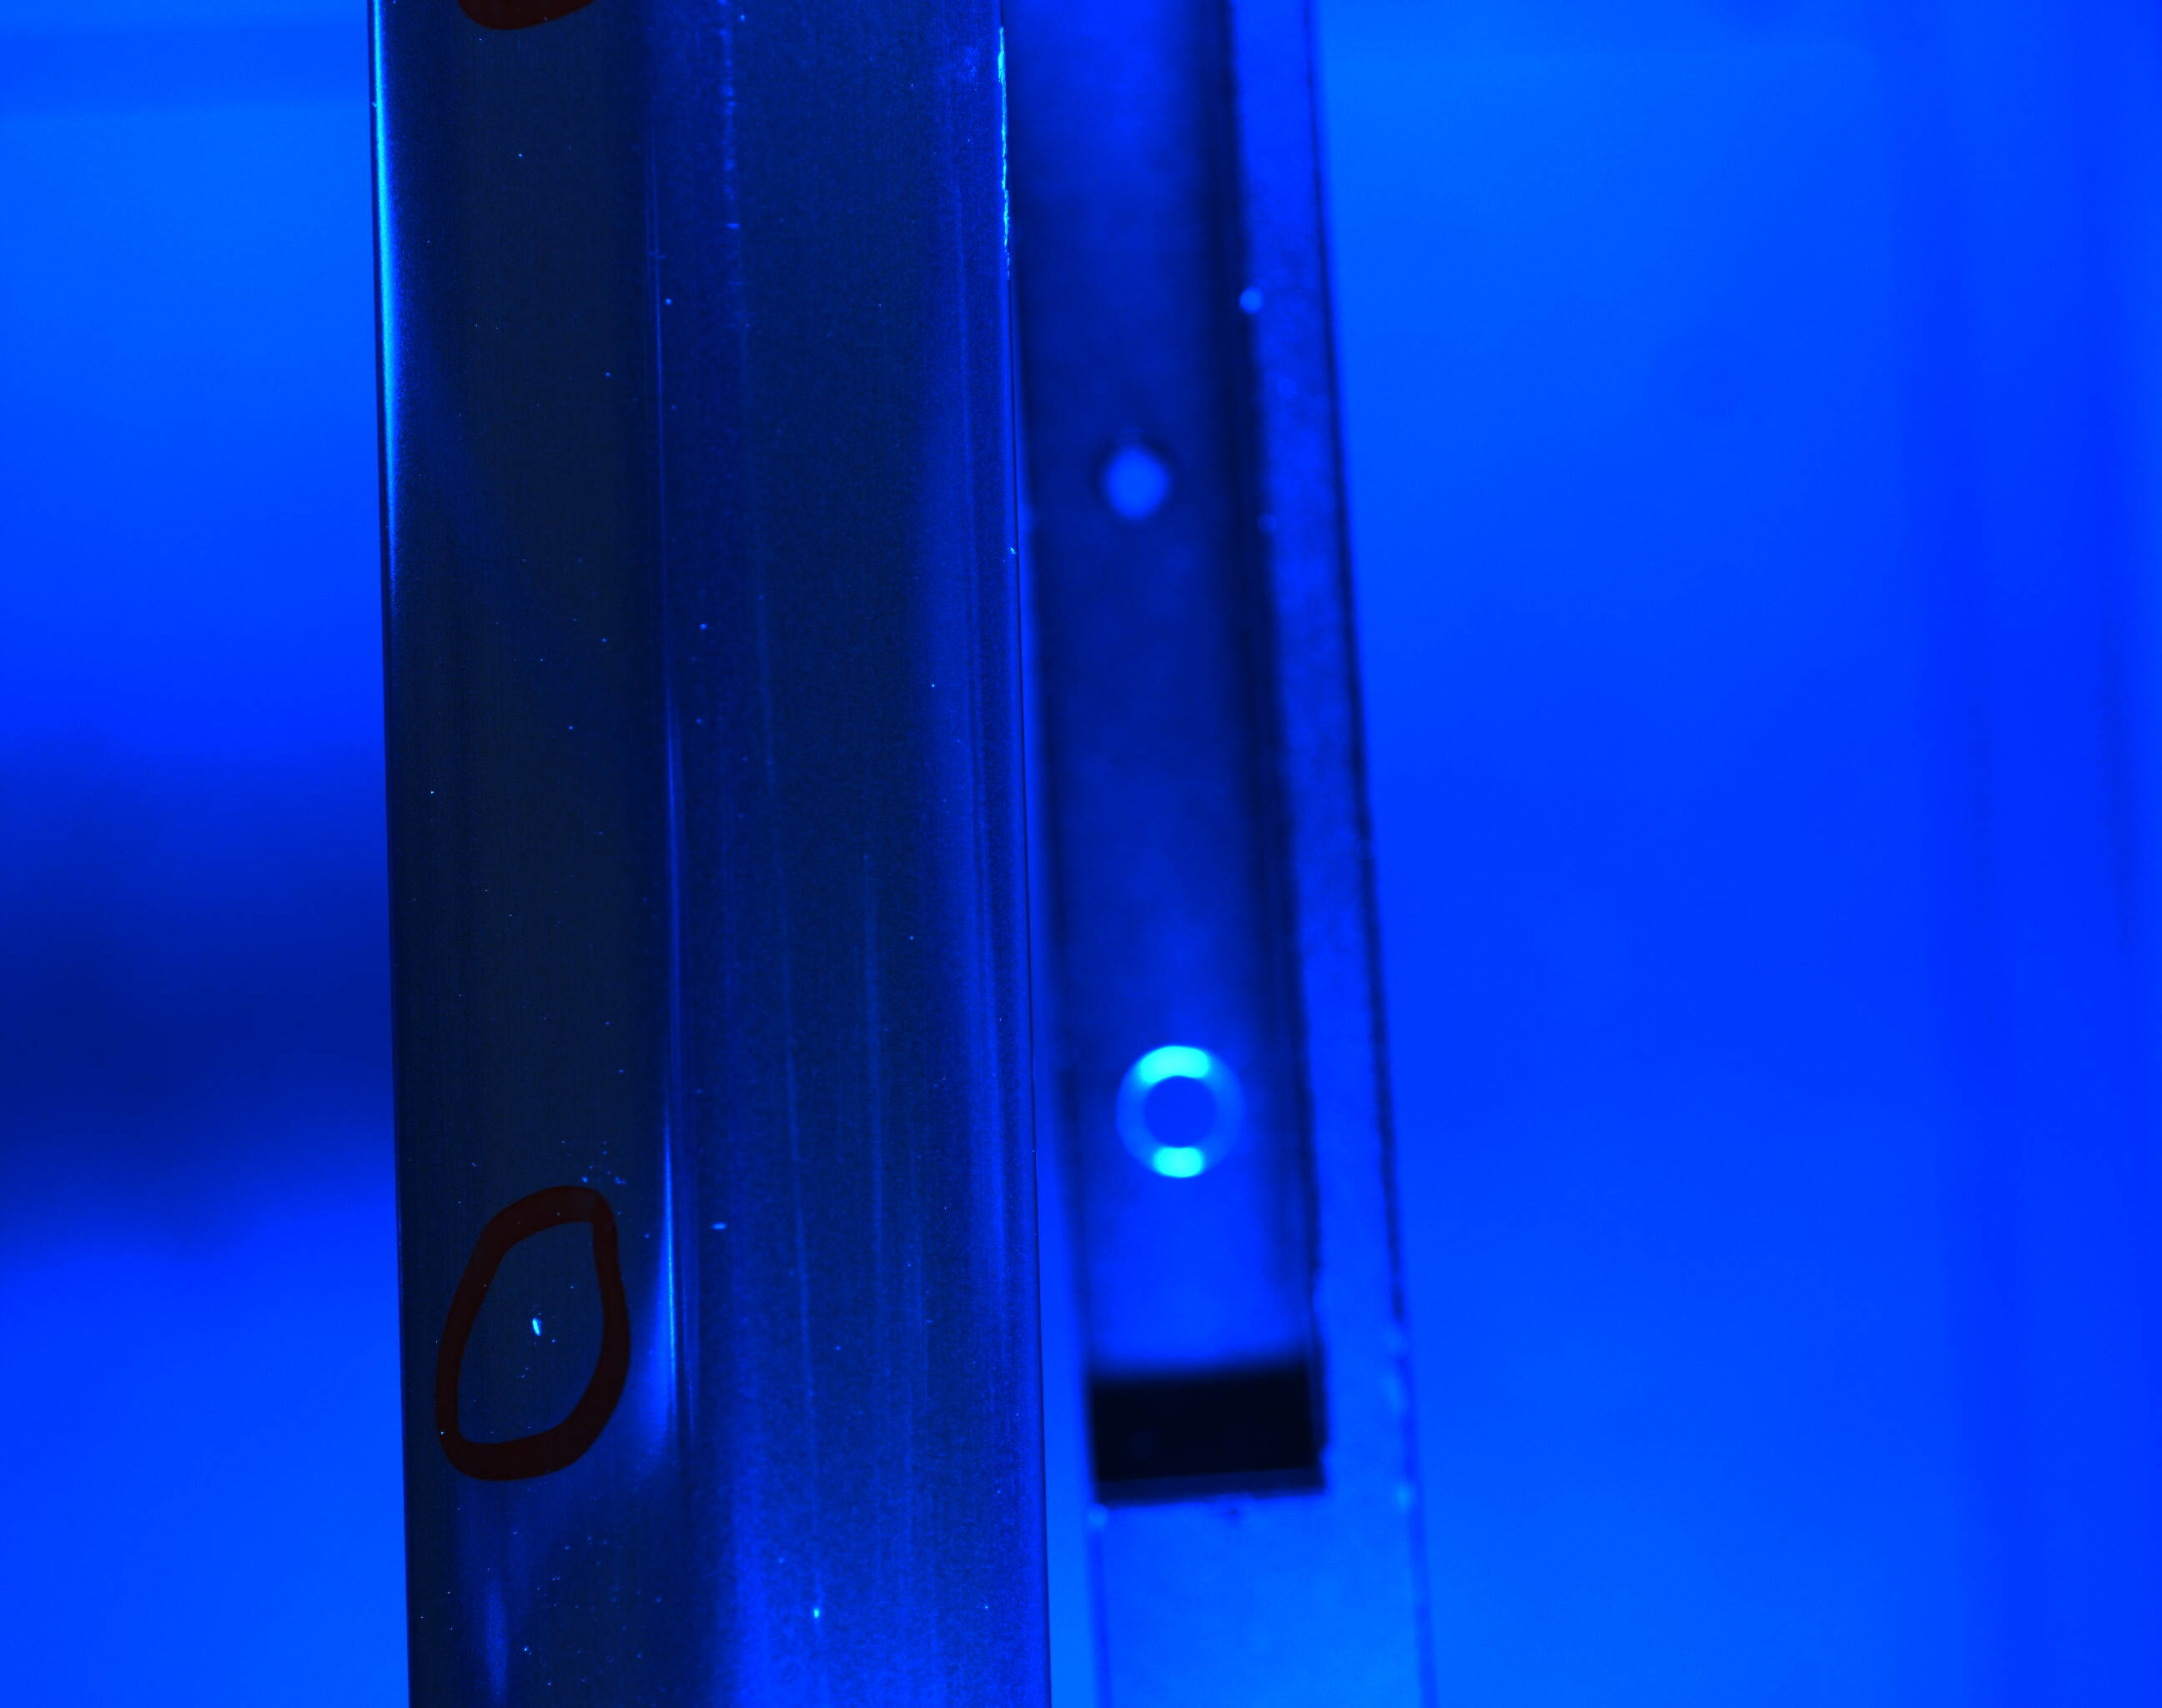NG: (688, 1185, 748, 1273), (507, 1288, 562, 1367)
